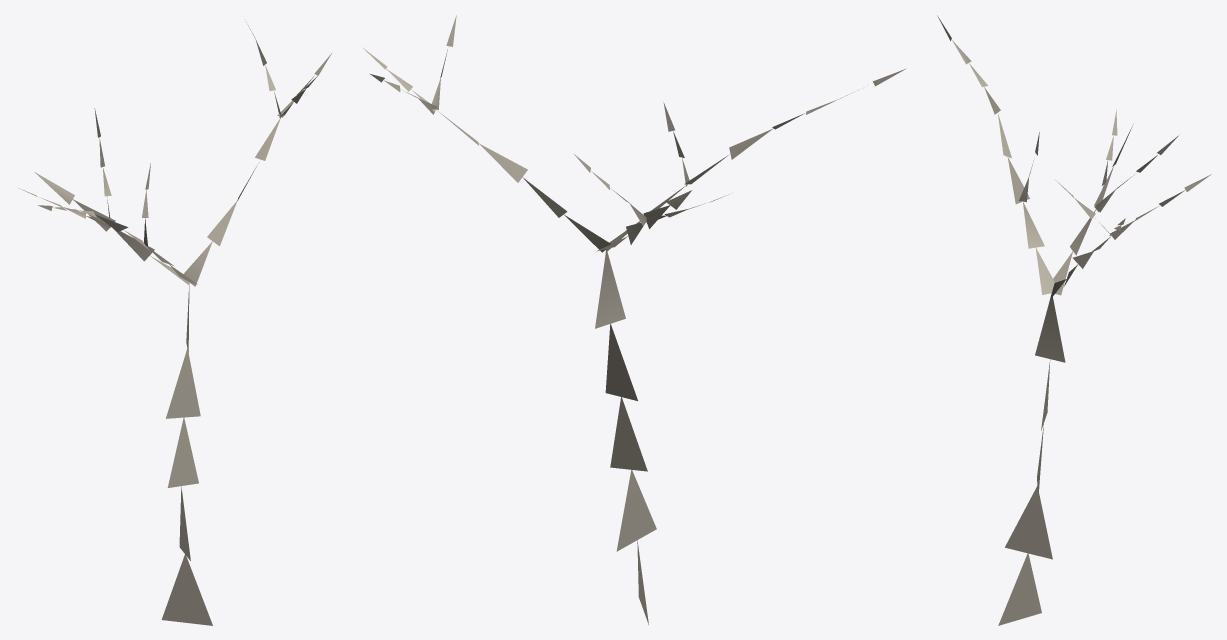
File: tree_dead_a_far.glb
The picture shows the model from 3 angles, left to right: view 1: azimuth 30°, elevation 25°; view 2: azimuth 150°, elevation 25°; view 3: azimuth 270°, elevation 25°; orthographic projection. The views are drawn at different scales.
Parts seen in each view (by area): view 1: tree_dead_a_far; view 2: tree_dead_a_far; view 3: tree_dead_a_far.
Boxes of the visible parts, x1=… form: tree_dead_a_far: x1=17, y1=22, x2=331, y2=625; tree_dead_a_far: x1=362, y1=15, x2=906, y2=624; tree_dead_a_far: x1=937, y1=15, x2=1211, y2=625.
Size of the model in its own units: 5.46 by 6.8 by 3.26.
